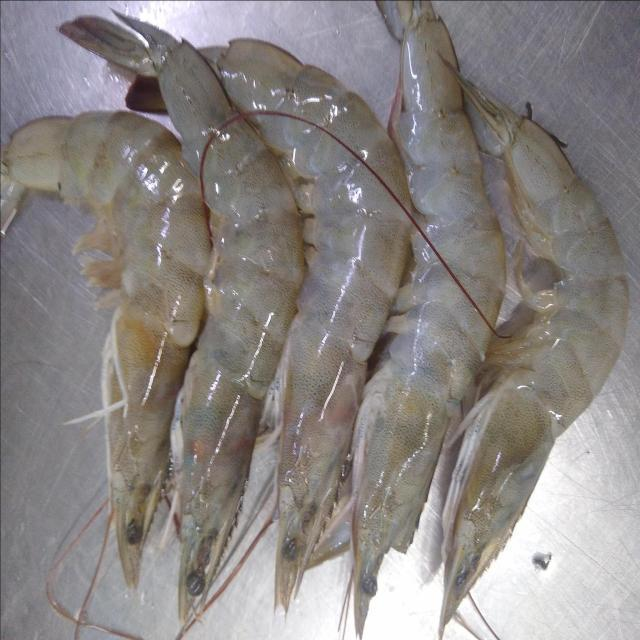shrimp: (217, 38, 412, 612), (439, 66, 630, 637), (124, 16, 304, 621), (3, 110, 209, 587), (352, 0, 506, 638)
